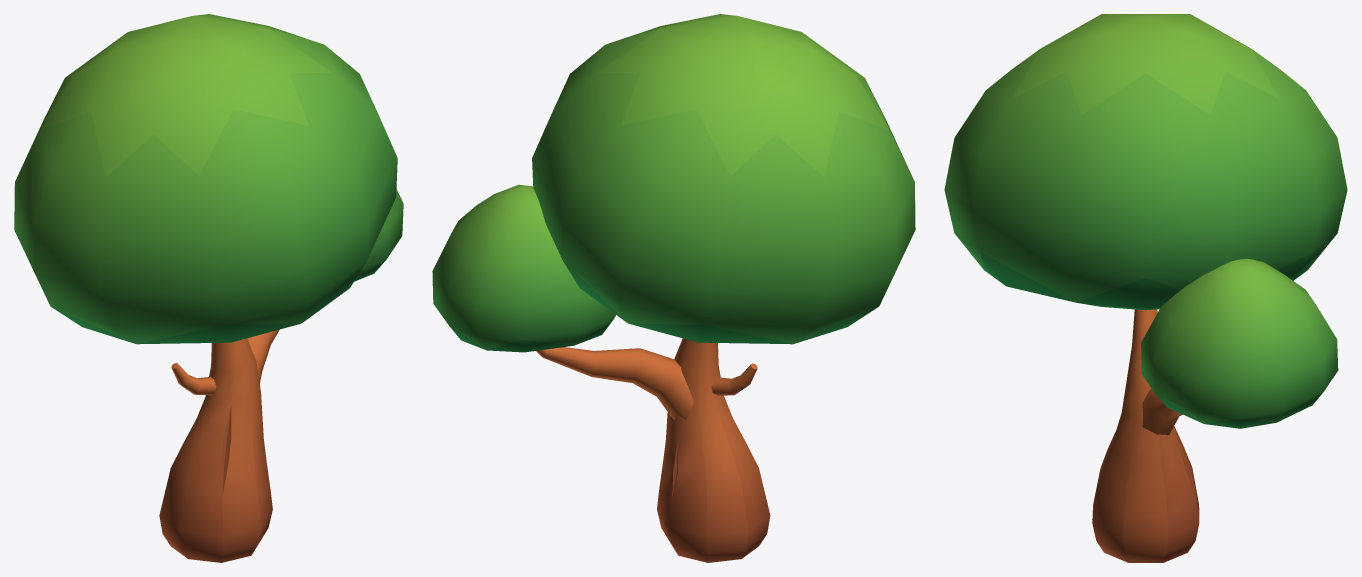
The model's file is Tree_1_B_Color1.gltf.
3 renders of one model, left to right at view 1: azimuth 30°, elevation 25°; view 2: azimuth 150°, elevation 25°; view 3: azimuth 270°, elevation 25°, orthographic.
Parts seen in each view (by area): view 1: Tree_1_B_Color1; view 2: Tree_1_B_Color1; view 3: Tree_1_B_Color1.
Part boxes in pixels (<box>): Tree_1_B_Color1: <box>14,14,403,562</box>; Tree_1_B_Color1: <box>432,14,915,562</box>; Tree_1_B_Color1: <box>944,14,1347,562</box>.
Size of the model in its own units: 4.01 by 4.93 by 3.45.
1 material, 1 textured.
